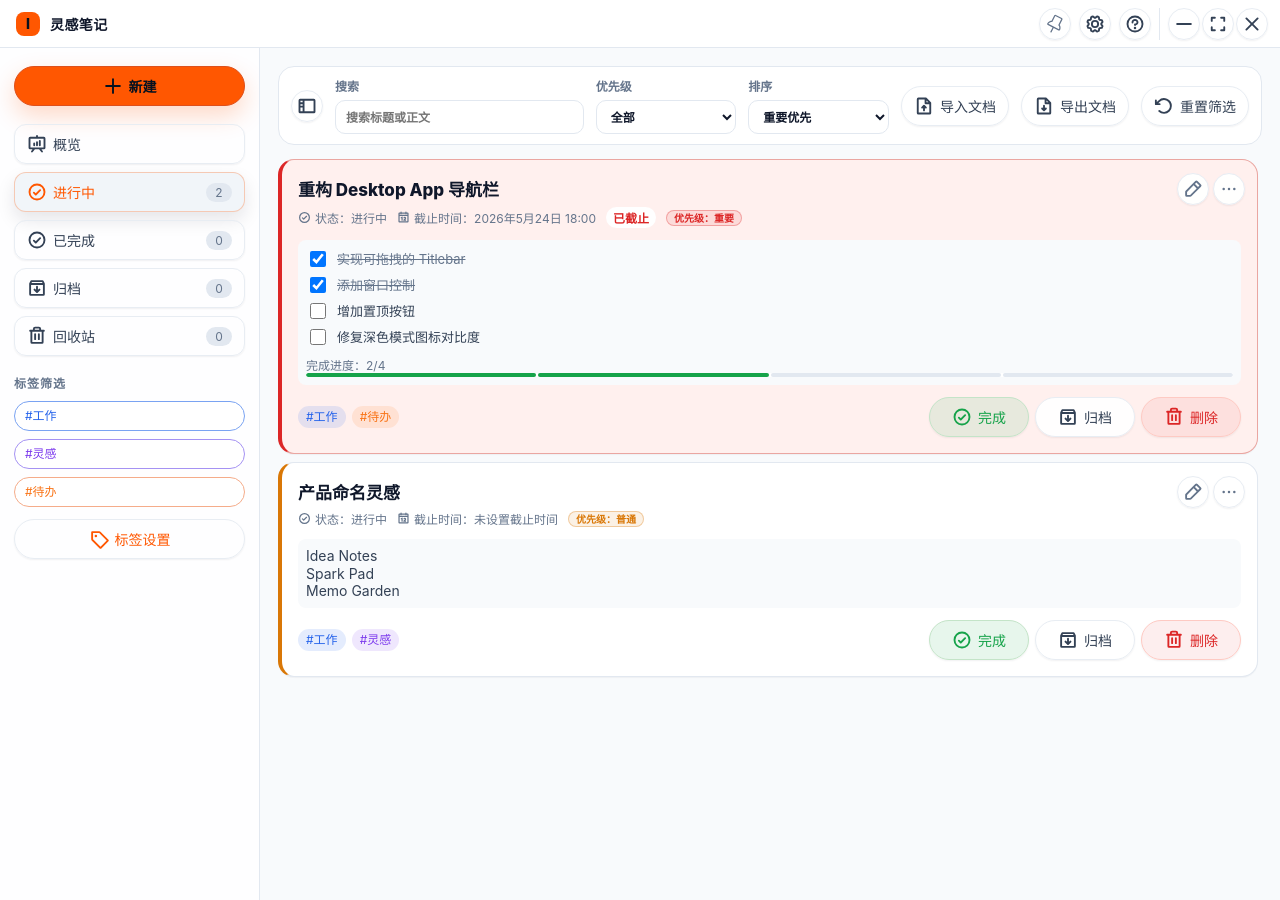
App editor failure › 编辑已有笔记保存失败时保留编辑器草稿并显示错误提示
Click the button "重构 Desktop App 导航栏": [398, 190] box x1=298 y1=176 x2=1181 y2=201
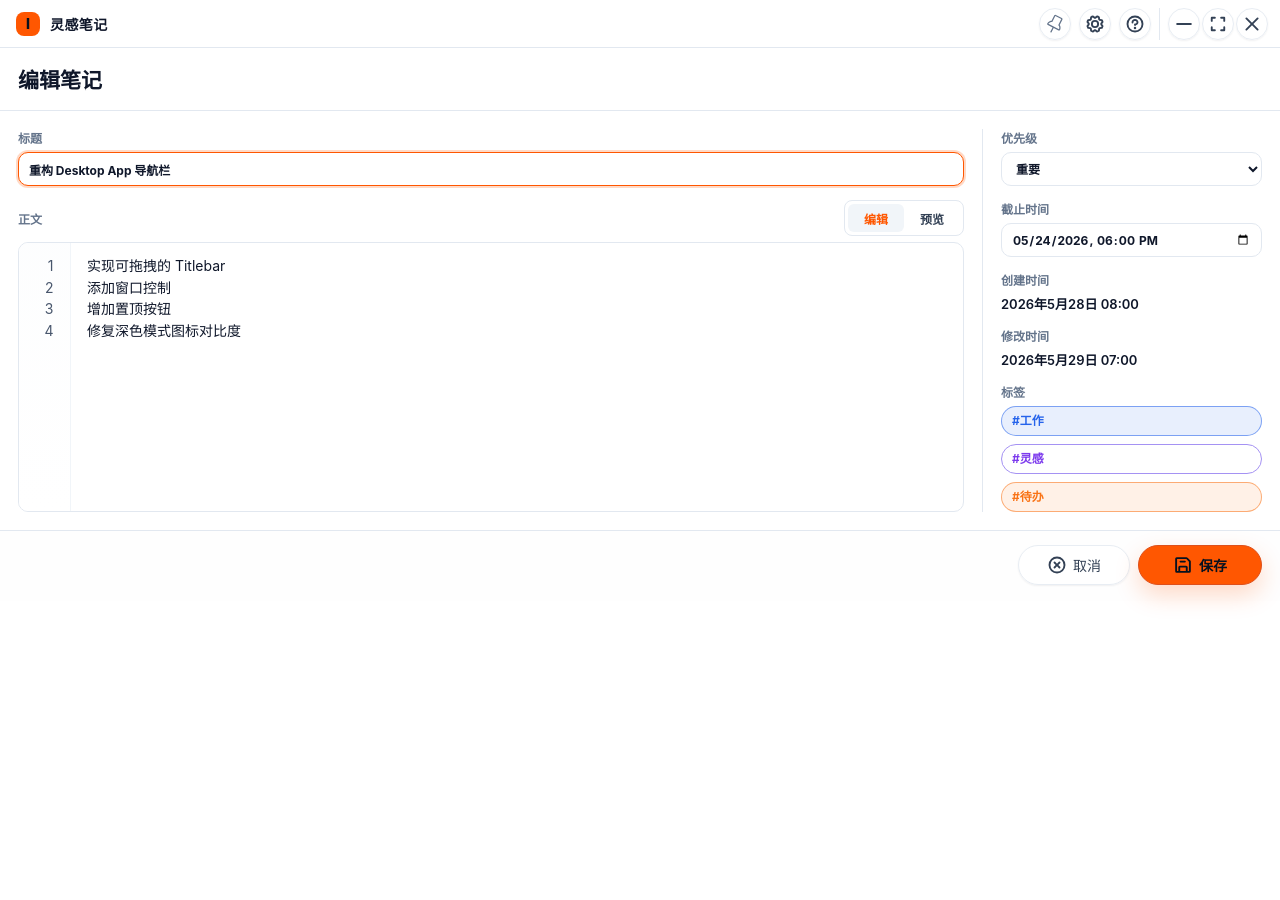
Replace the text in the field labelled "标题" with "保存失败后的编辑标题": [491, 169] box x1=18 y1=152 x2=964 y2=186
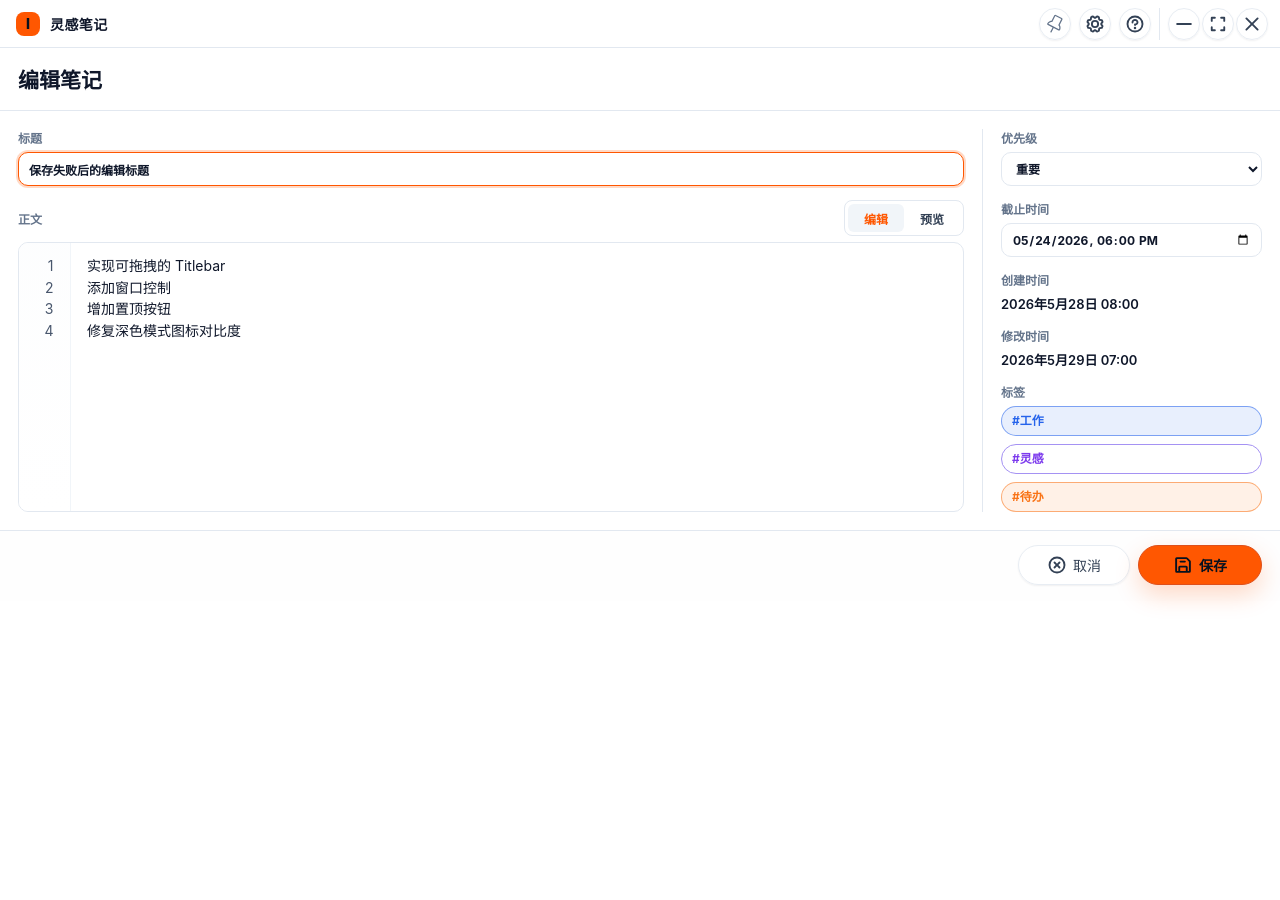
Replace the text in the text box named "正文" with "保存失败后的编辑正文": [525, 377] box x1=87 y1=243 x2=963 y2=511
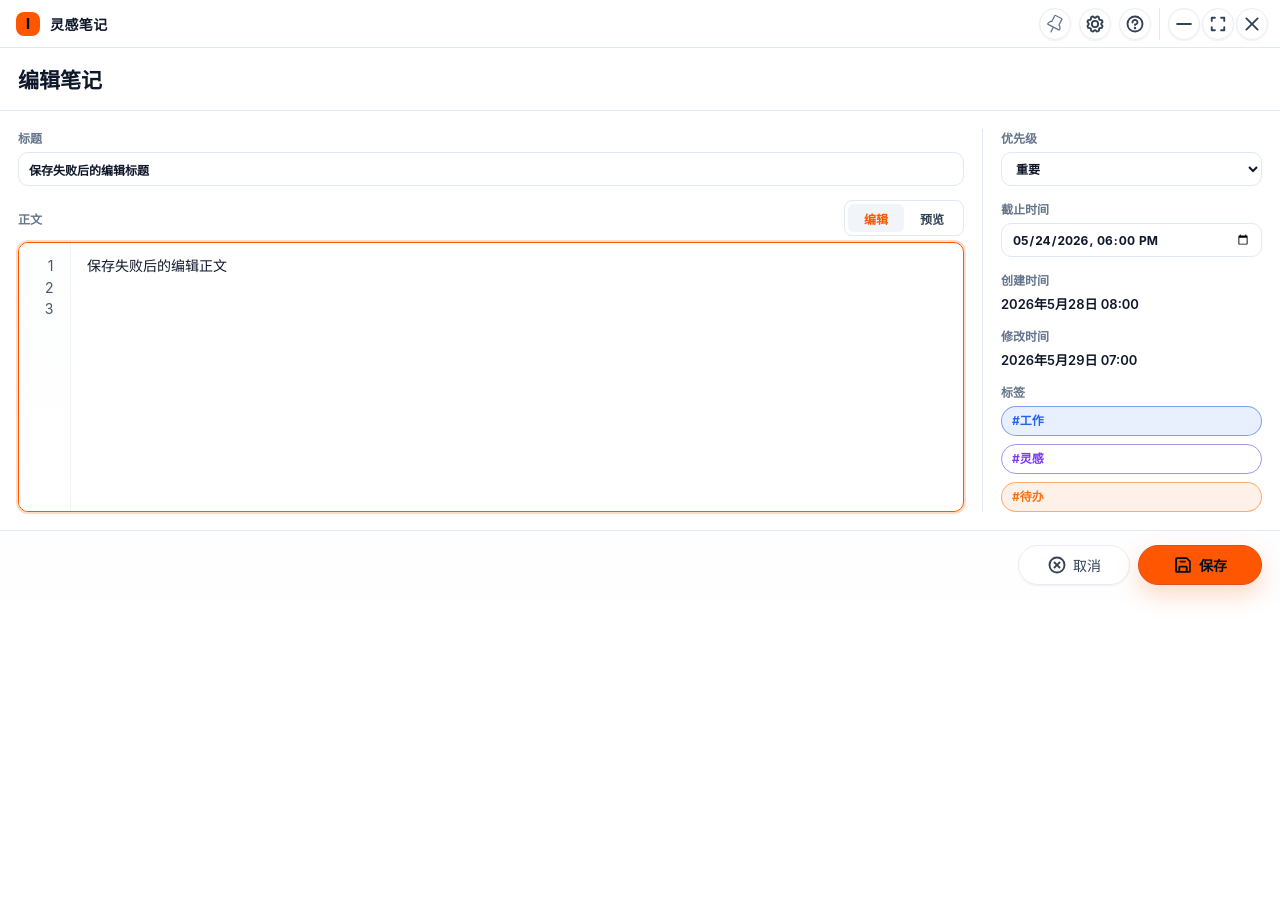
Click the button "保存": [1200, 565] box x1=1138 y1=545 x2=1262 y2=585
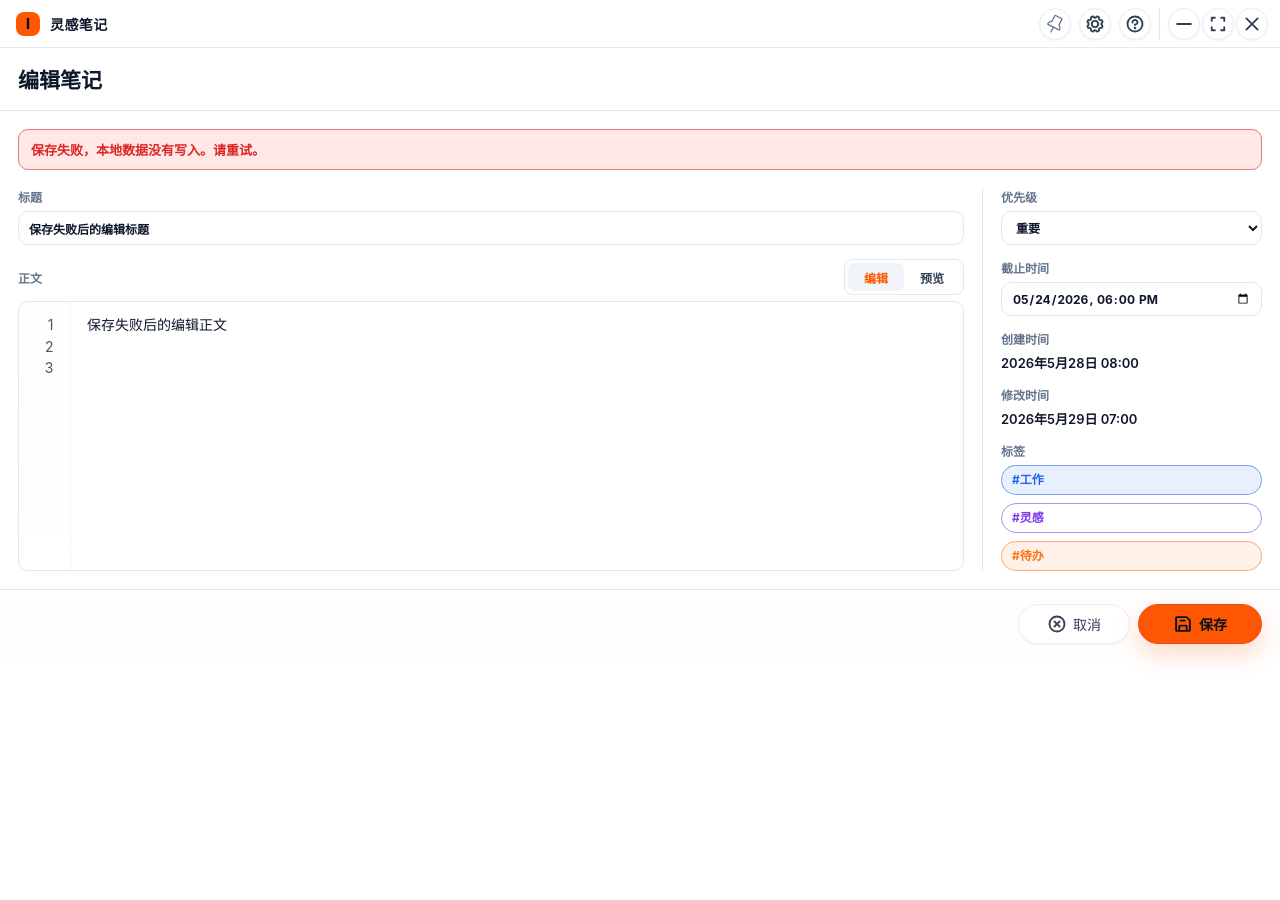
expect the heading "编辑笔记" is shown: met, box x1=18 y1=64 x2=102 y2=94
expect the message reads "保存失败，本地数据没有写入。请重试。": met, box x1=31 y1=142 x2=265 y2=158
